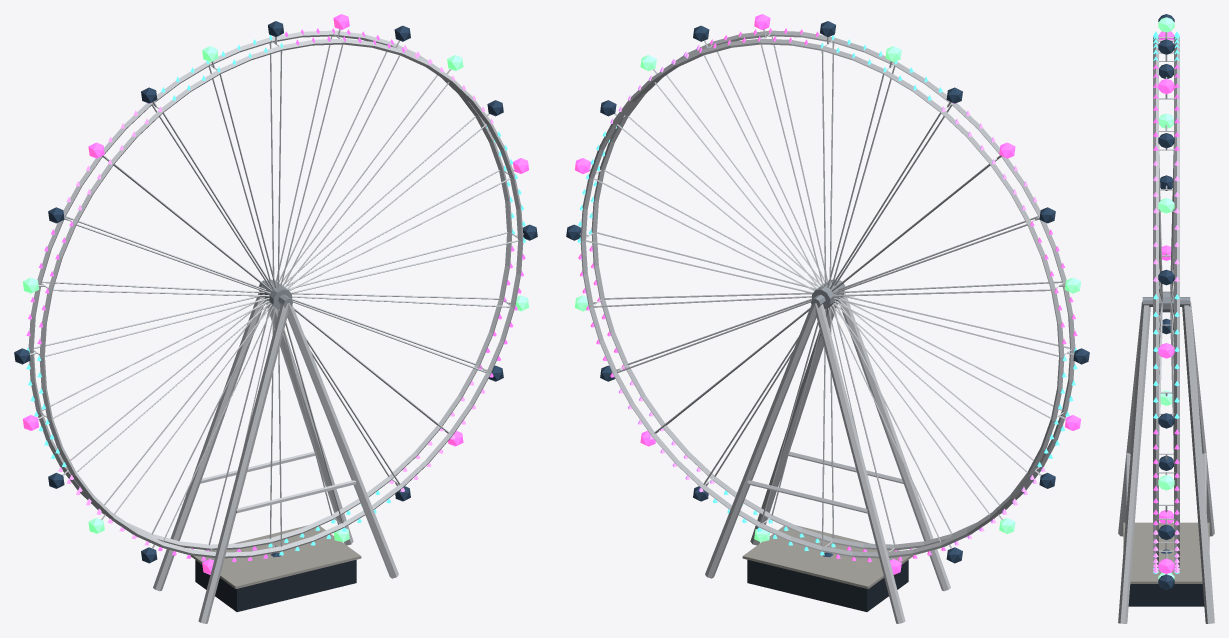
File: pariserhjul.glb
3 renders of one model, left to right at view 1: azimuth 30°, elevation 25°; view 2: azimuth 150°, elevation 25°; view 3: azimuth 270°, elevation 25°, orthographic. The views are drawn at different scales.
Parts seen in each view (by area): view 1: Hjul, Stativ; view 2: Hjul, Stativ; view 3: Stativ, Hjul.
Part boxes in pixels (box(x1,y1,x2,y2)): Hjul: box(14, 14, 537, 574); Stativ: box(153, 280, 398, 623); Hjul: box(566, 14, 1089, 574); Stativ: box(705, 280, 950, 623); Stativ: box(1118, 297, 1214, 623); Hjul: box(1153, 14, 1179, 589).
Size of the model in its own units: 87.13 by 89.92 by 14.6.
